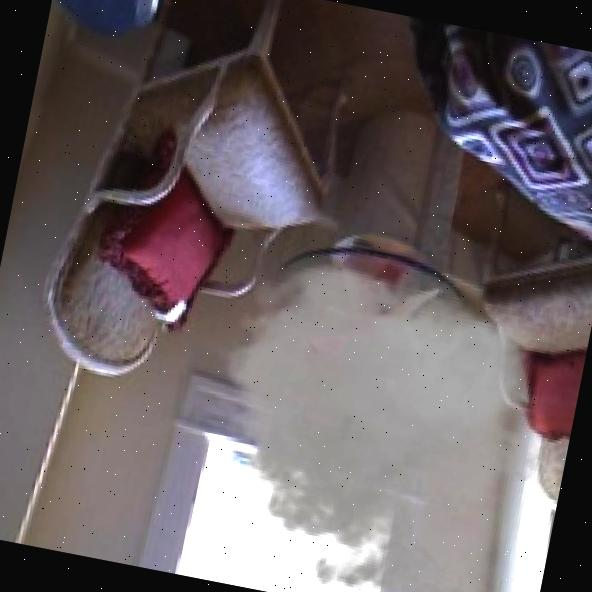smoke: (172, 233, 592, 592)
